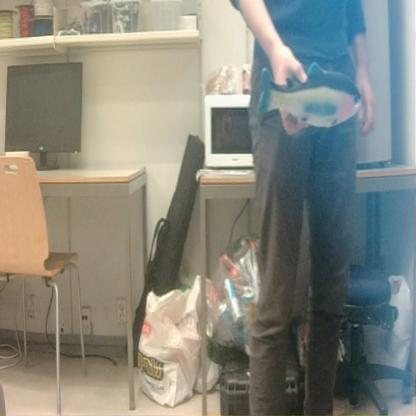rubberfish: (254, 61, 364, 140)
